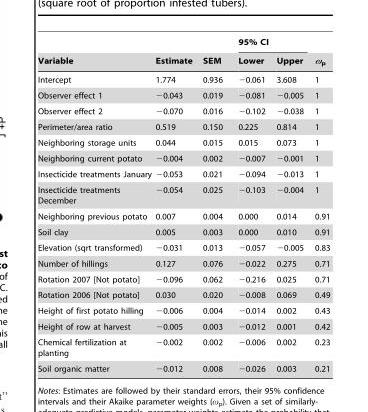table: (37, 37, 329, 372)
table column: (37, 37, 152, 372), (152, 37, 196, 372), (229, 37, 270, 372), (270, 37, 308, 372), (196, 37, 229, 372), (308, 37, 329, 372)
table column header: (37, 37, 329, 70)
table row: (37, 181, 329, 208), (37, 334, 329, 360), (37, 51, 329, 70), (37, 70, 329, 87), (37, 87, 329, 103), (37, 118, 329, 134), (37, 134, 329, 150), (37, 165, 329, 181), (37, 208, 329, 224), (37, 239, 329, 255), (37, 255, 329, 271), (37, 286, 329, 302), (37, 302, 329, 318), (37, 318, 329, 334), (37, 103, 329, 118), (37, 150, 329, 165), (37, 224, 329, 239), (37, 271, 329, 286), (37, 37, 329, 51), (37, 360, 329, 372)
table spanning cell: (37, 37, 152, 70), (152, 37, 196, 70), (229, 37, 308, 51), (196, 37, 229, 70), (308, 37, 329, 70)
